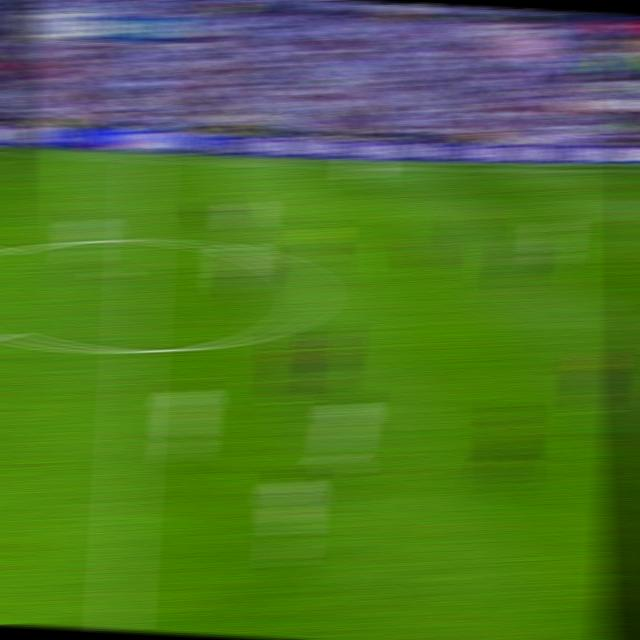halfcircle_bottom: (119, 336, 151, 364)
halfcircle_top: (125, 227, 156, 250)
midline_top_intersection: (131, 153, 157, 165)
